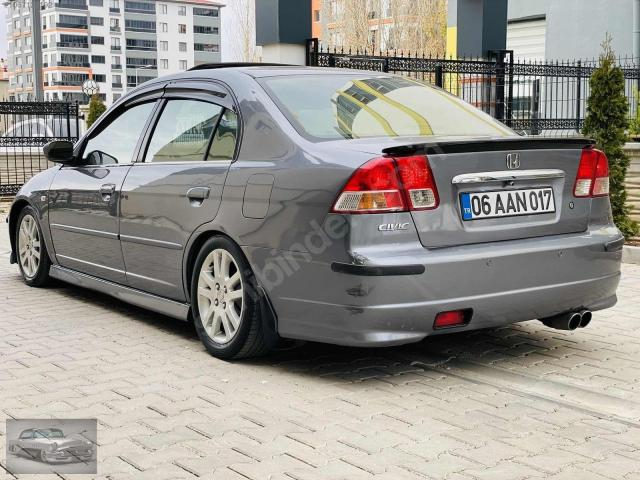plaka: (460, 188, 556, 220)
